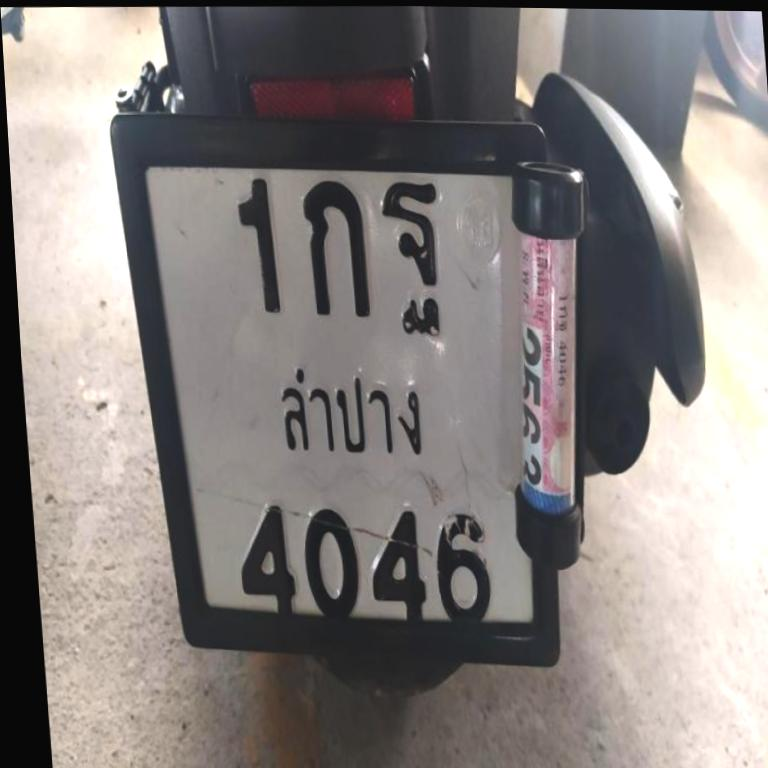license plate: (100, 98, 586, 678)
